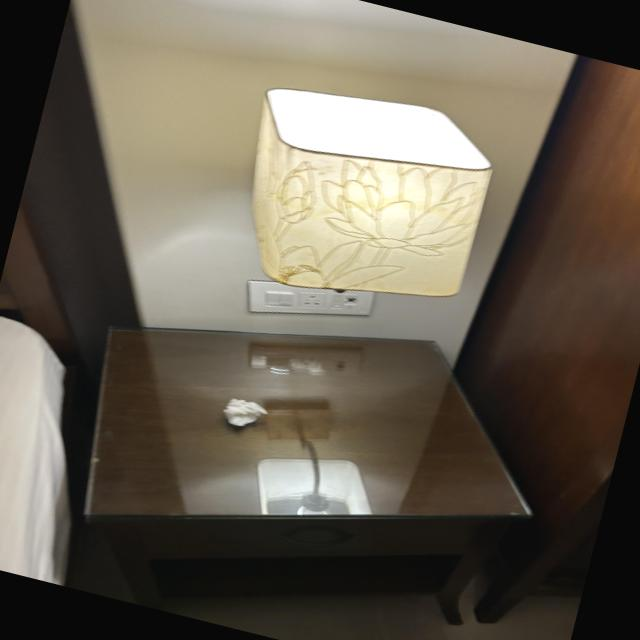mess: (28, 300, 577, 610)
